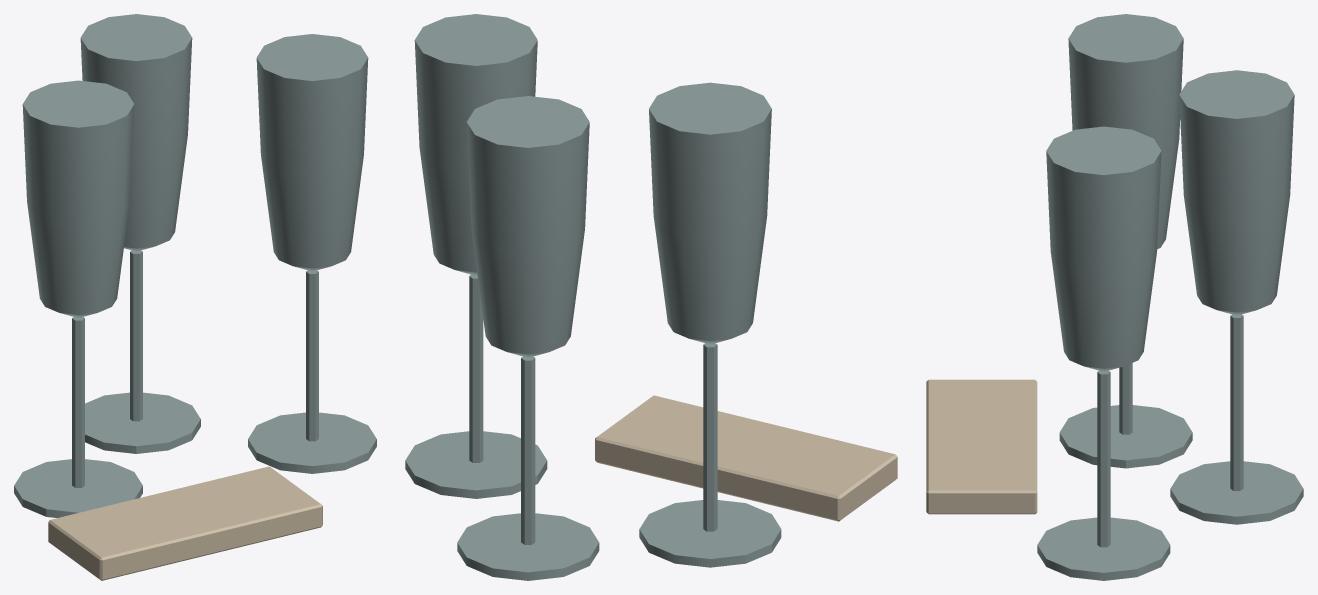
Rendered from prop_glassware.glb.
3 renders of one model, left to right at view 1: azimuth 30°, elevation 25°; view 2: azimuth 150°, elevation 25°; view 3: azimuth 270°, elevation 25°, orthographic. The views are drawn at different scales.
Parts seen in each view (by area): view 1: Glasses; view 2: Glasses; view 3: Glasses.
Boxes of the visible parts, box(x1,y1,x2,y2) form: Glasses: box(14, 14, 376, 580); Glasses: box(405, 14, 897, 580); Glasses: box(926, 14, 1303, 580).
Bounding box in the file's own units: 0.19 × 0.2 × 0.17.
